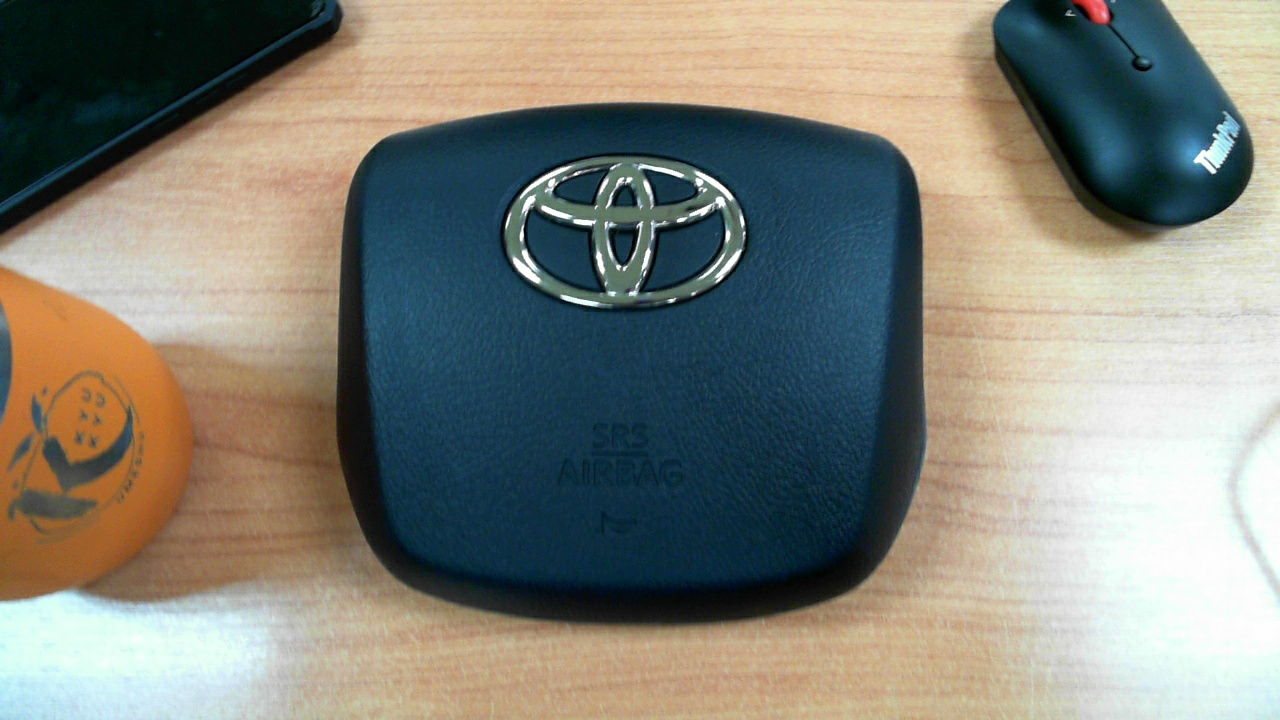Airbag: (291, 76, 966, 643)
